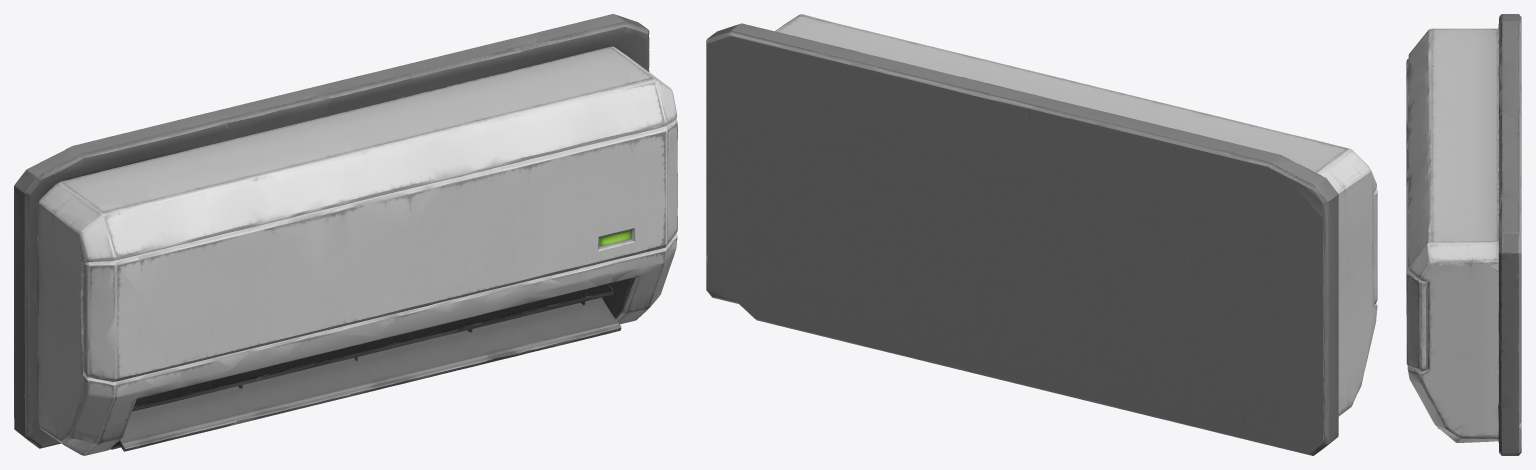
Rendered from wall-air-conditioner.glb.
The picture shows the model from 3 angles, left to right: view 1: azimuth 30°, elevation 25°; view 2: azimuth 150°, elevation 25°; view 3: azimuth 270°, elevation 25°; orthographic projection. The views are drawn at different scales.
Parts seen in each view (by area): view 1: mesh_node; view 2: mesh_node; view 3: mesh_node.
Boxes of the visible parts, x1,y1,x2,y2 form: mesh_node: (14, 14, 677, 455); mesh_node: (706, 14, 1377, 455); mesh_node: (1406, 14, 1521, 455).
Size of the model in its own units: 1.9 by 0.8287 by 0.3831.
1 material, 1 textured.
